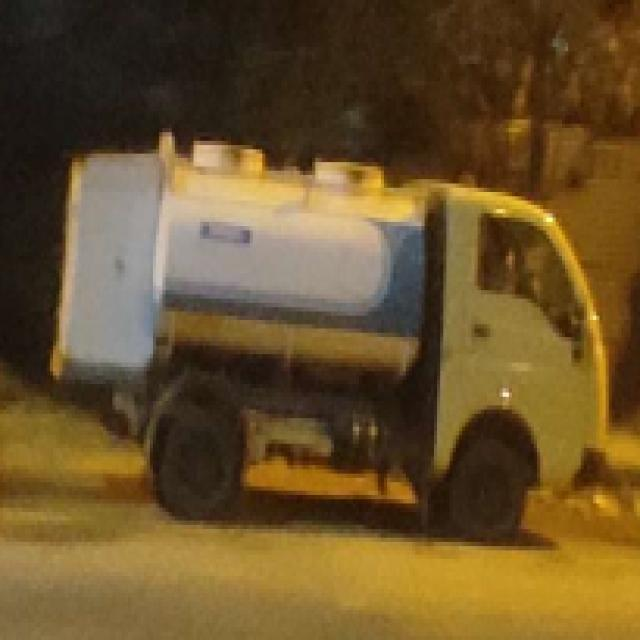minitruck: (44, 128, 606, 550)
